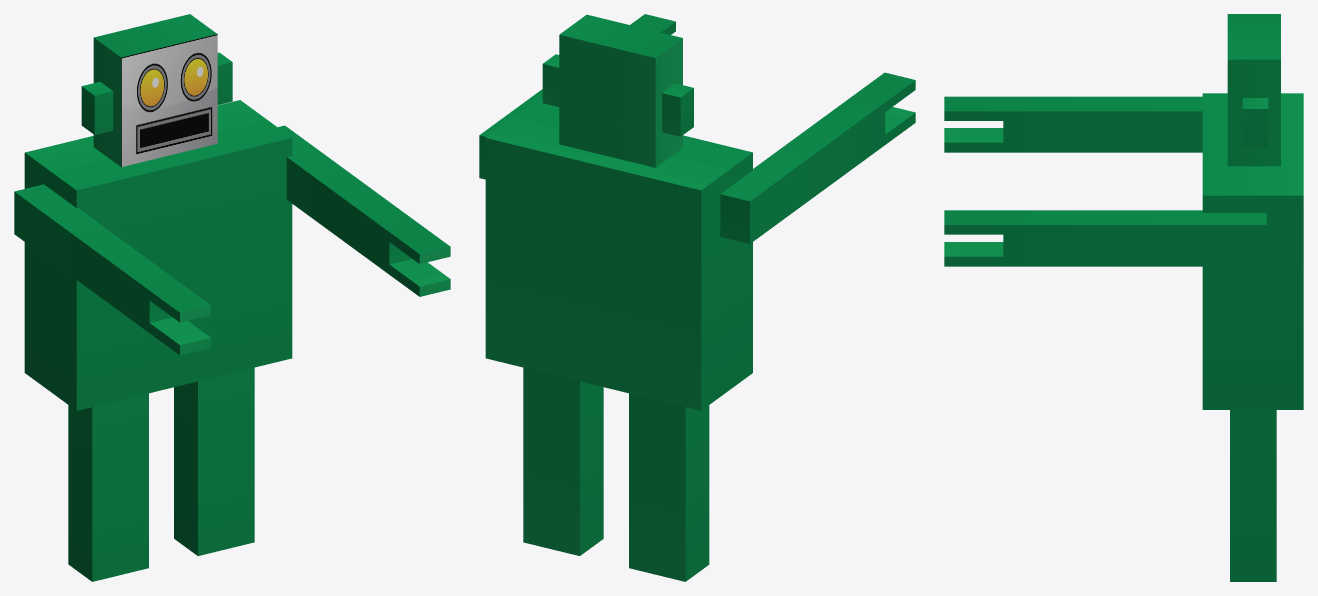
The model's file is robotN.fbx.
3 renders of one model, left to right at view 1: azimuth 30°, elevation 25°; view 2: azimuth 150°, elevation 25°; view 3: azimuth 270°, elevation 25°, orthographic. The views are drawn at different scales.
Visible parts, largest first — view 1: polySurface5, polySurface8, polySurface6, polySurface2, pasted__polySurface9, polySurface9, polySurface7; view 2: polySurface5, polySurface8, polySurface6, polySurface2, pasted__polySurface9, polySurface7, polySurface9; view 3: polySurface5, polySurface9, pasted__polySurface9, polySurface2, polySurface8, polySurface7.
Boxes of the visible parts, bbox=[...] form: polySurface5: bbox=[24, 100, 292, 410]; polySurface8: bbox=[93, 14, 217, 167]; polySurface6: bbox=[68, 393, 148, 581]; polySurface2: bbox=[174, 367, 254, 555]; pasted__polySurface9: bbox=[14, 184, 210, 355]; polySurface9: bbox=[278, 125, 450, 296]; polySurface7: bbox=[81, 52, 232, 134]; polySurface5: bbox=[485, 100, 752, 410]; polySurface8: bbox=[559, 14, 682, 167]; polySurface6: bbox=[629, 393, 709, 581]; polySurface2: bbox=[523, 367, 603, 555]; pasted__polySurface9: bbox=[720, 72, 915, 243]; polySurface7: bbox=[542, 54, 693, 136]; polySurface9: bbox=[479, 14, 675, 179]; polySurface5: bbox=[1202, 93, 1303, 409]; polySurface9: bbox=[944, 210, 1266, 266]; pasted__polySurface9: bbox=[944, 96, 1202, 152]; polySurface2: bbox=[1230, 410, 1276, 581]; polySurface8: bbox=[1227, 14, 1280, 166]; polySurface7: bbox=[1242, 98, 1268, 147].
Size of the model in its own units: 4.02 by 7.35 by 4.75.
